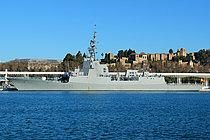MIL_Ship: (5, 29, 206, 93)
